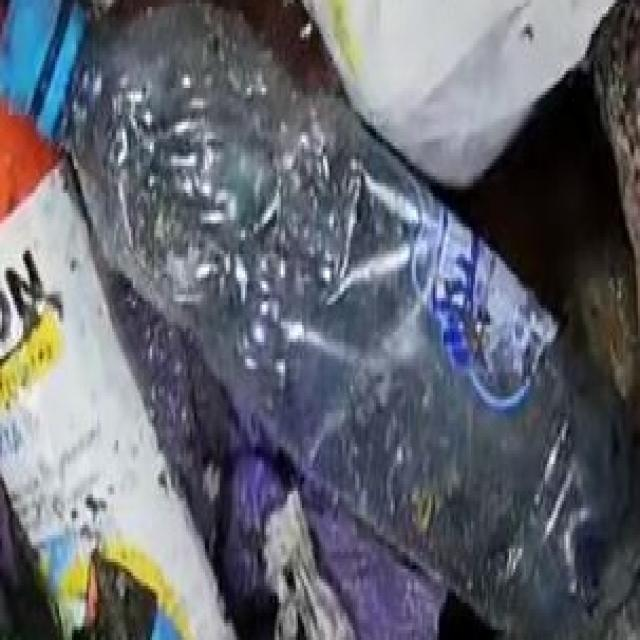plasticbottle: (2, 0, 640, 630)
